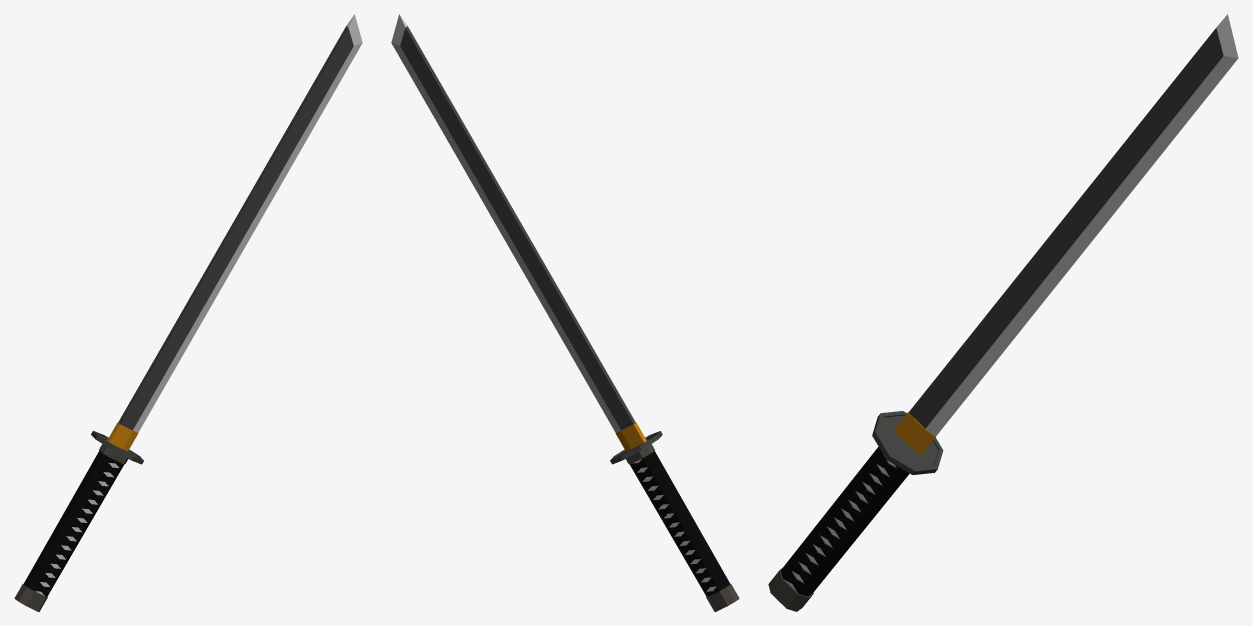
The model's file is Katana_2.FBX.
3 renders of one model, left to right at view 1: azimuth 30°, elevation 25°; view 2: azimuth 150°, elevation 25°; view 3: azimuth 330°, elevation 25°, orthographic. The views are drawn at different scales.
Parts seen in each view (by area): view 1: Katana; view 2: Katana; view 3: Katana.
Boxes of the visible parts, x1,y1,x2,y2 form: Katana: (14, 14, 362, 611); Katana: (391, 14, 739, 611); Katana: (768, 14, 1238, 611).
Size of what is drawn, in the model's own units: 1775 by 263 by 2542.
